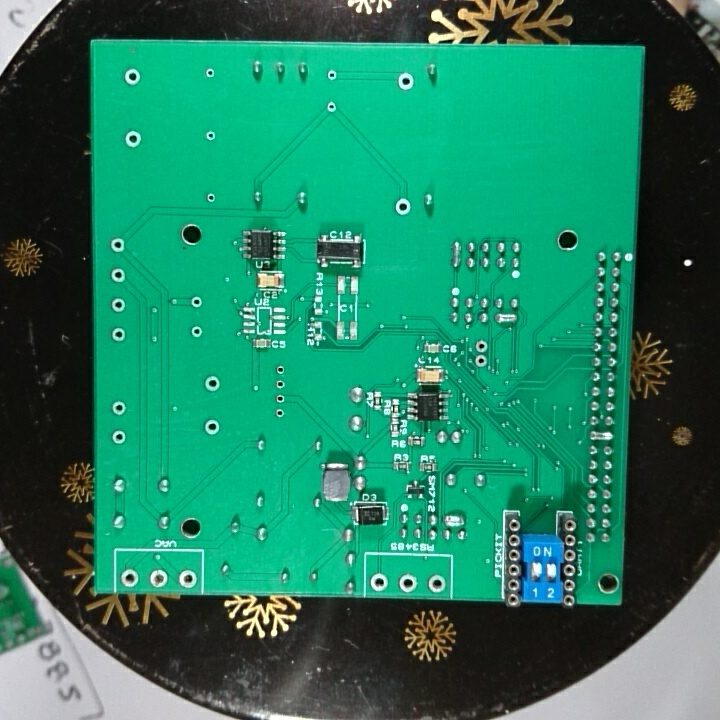F: (120, 66, 145, 90), (175, 568, 199, 592), (397, 572, 420, 596), (368, 570, 391, 593), (201, 372, 223, 395), (109, 398, 131, 420), (148, 567, 170, 589), (201, 415, 222, 438), (396, 70, 417, 92), (107, 235, 128, 256), (119, 568, 140, 589), (427, 573, 447, 595), (122, 128, 142, 149), (108, 266, 129, 286), (108, 294, 128, 315), (393, 197, 413, 217), (110, 324, 128, 345), (188, 323, 205, 343), (188, 294, 205, 312), (110, 429, 128, 446), (324, 98, 340, 116), (202, 126, 218, 144), (324, 67, 341, 83), (473, 352, 488, 369), (474, 338, 489, 354), (202, 66, 218, 81), (204, 191, 217, 208), (273, 363, 288, 377), (274, 377, 288, 392), (272, 406, 287, 420), (273, 392, 288, 405)
P: (585, 428, 616, 444), (491, 312, 522, 327), (442, 512, 467, 529), (449, 237, 462, 269)
